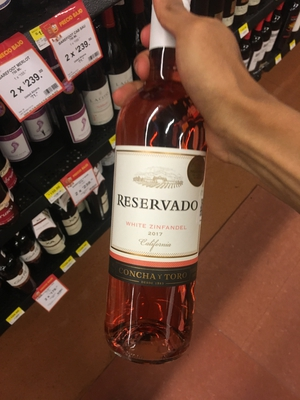reservado white zinfandel: (113, 12, 210, 354)
